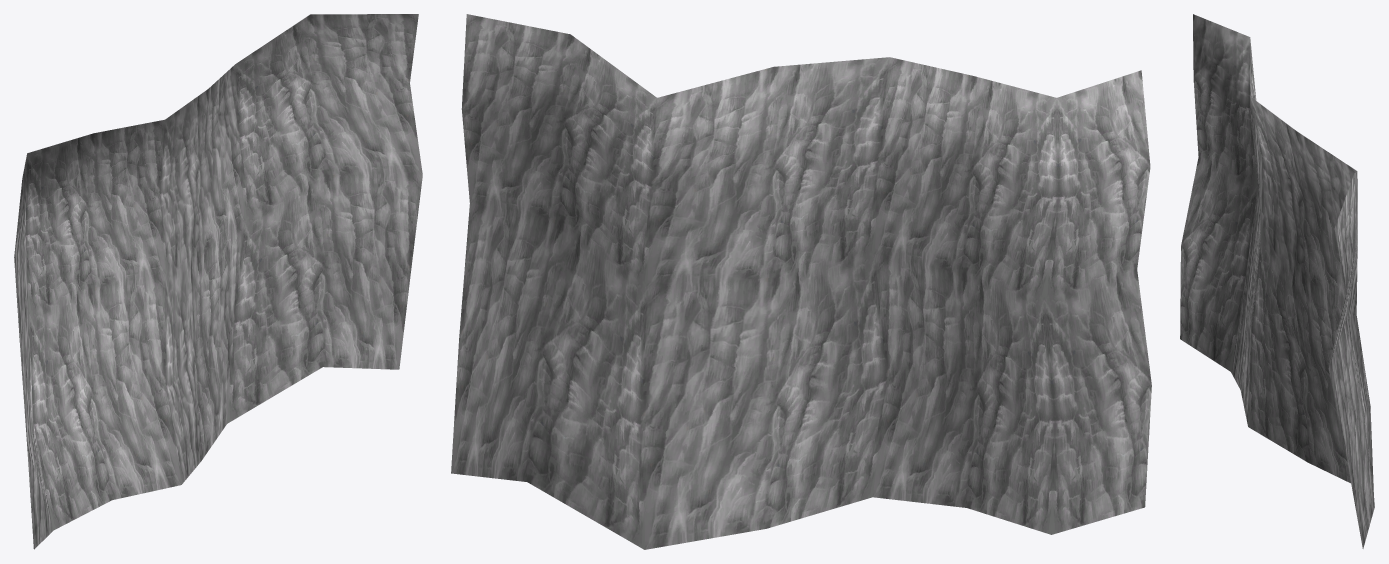
Rendered from SWORDLIGHT20_PS-AREA03_185.fbx.
The picture shows the model from 3 angles, left to right: view 1: azimuth 30°, elevation 25°; view 2: azimuth 150°, elevation 25°; view 3: azimuth 270°, elevation 25°; orthographic projection. The views are drawn at different scales.
Parts seen in each view (by area): view 1: SWORDLIGHT20_PS-AREA03_185; view 2: SWORDLIGHT20_PS-AREA03_185; view 3: SWORDLIGHT20_PS-AREA03_185.
Part boxes in pixels (x1=…): SWORDLIGHT20_PS-AREA03_185: x1=14, y1=14, x2=422, y2=549; SWORDLIGHT20_PS-AREA03_185: x1=451, y1=14, x2=1151, y2=549; SWORDLIGHT20_PS-AREA03_185: x1=1180, y1=14, x2=1374, y2=548.
Bounding box in the file's own units: 221637 × 174576 × 87495.
1 material, 1 textured.
